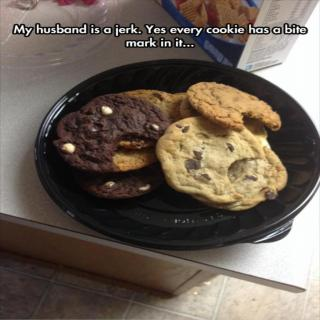Cookie: (50, 80, 290, 210)
